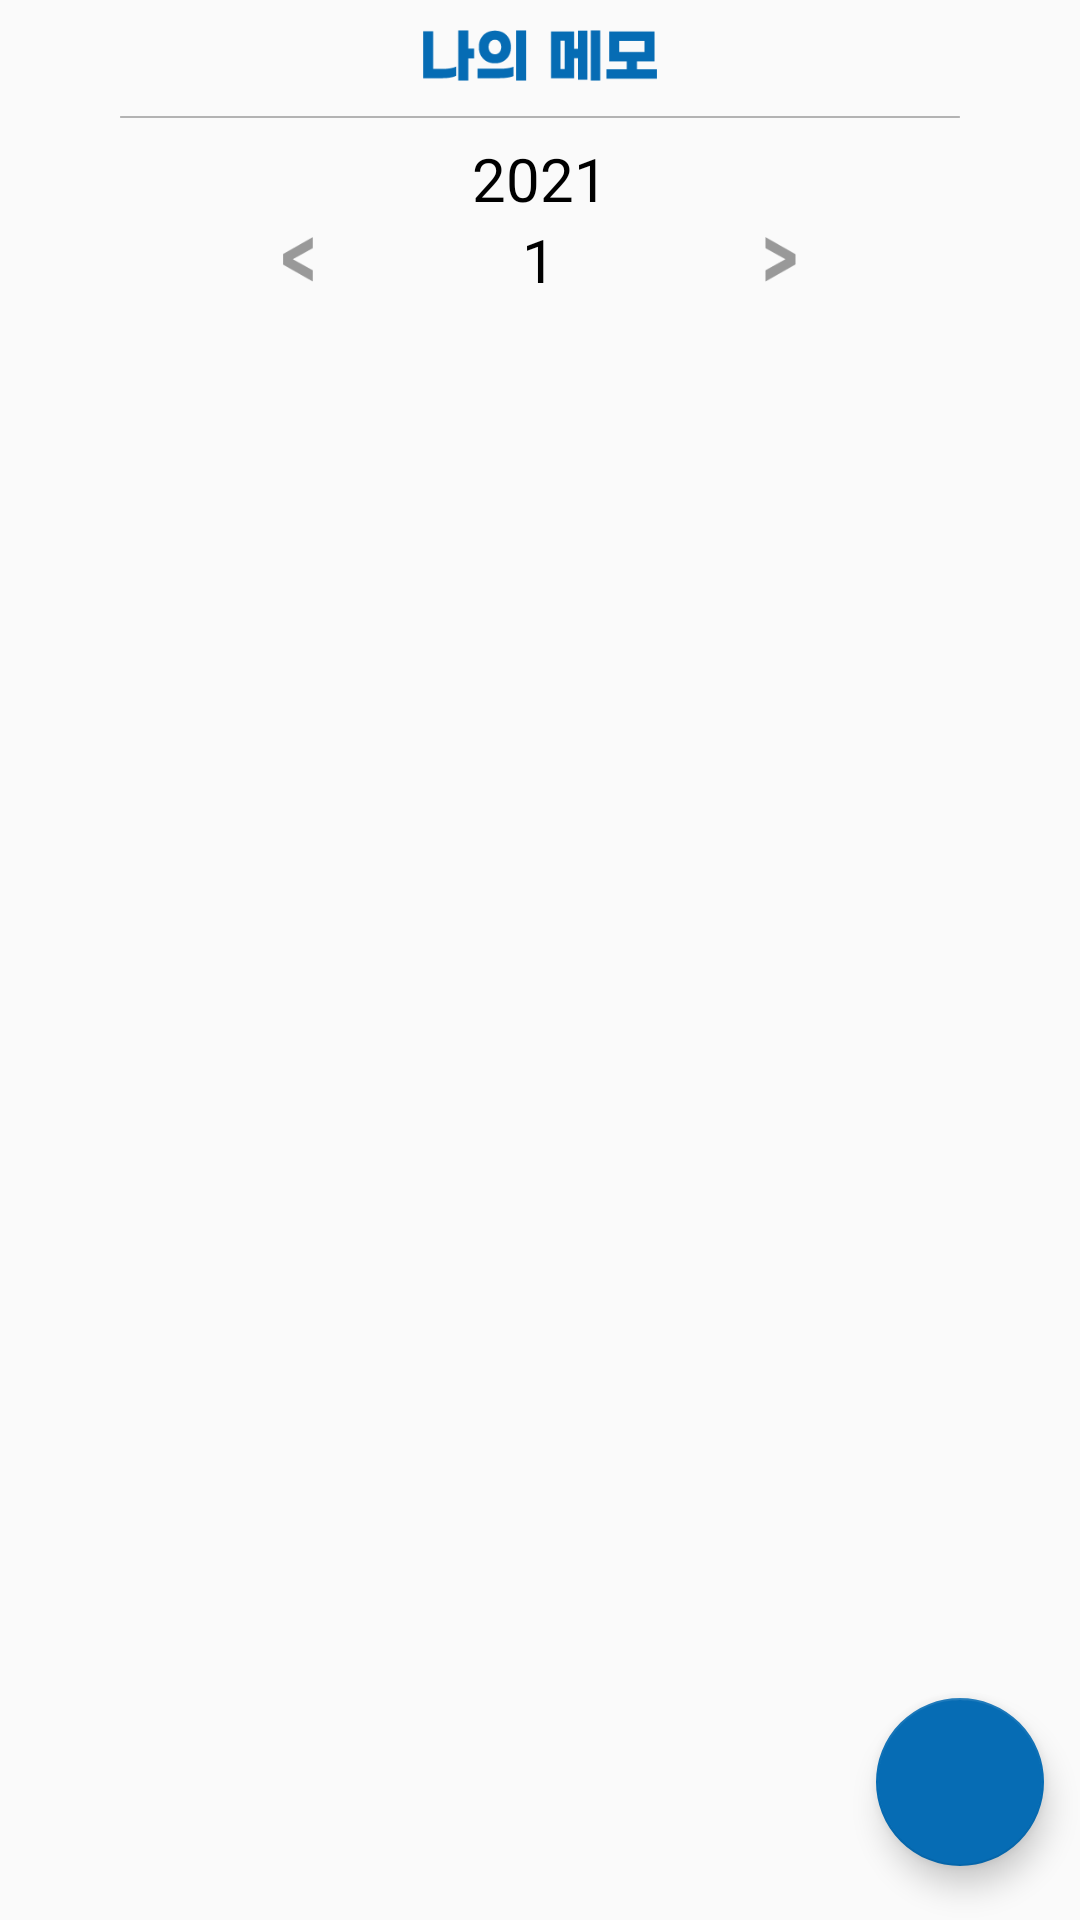

Screen size 1080×1920. Icon name, then its center in pixels as [x,y]:
arrow left: [298,259]
arrow right: [780,259]
